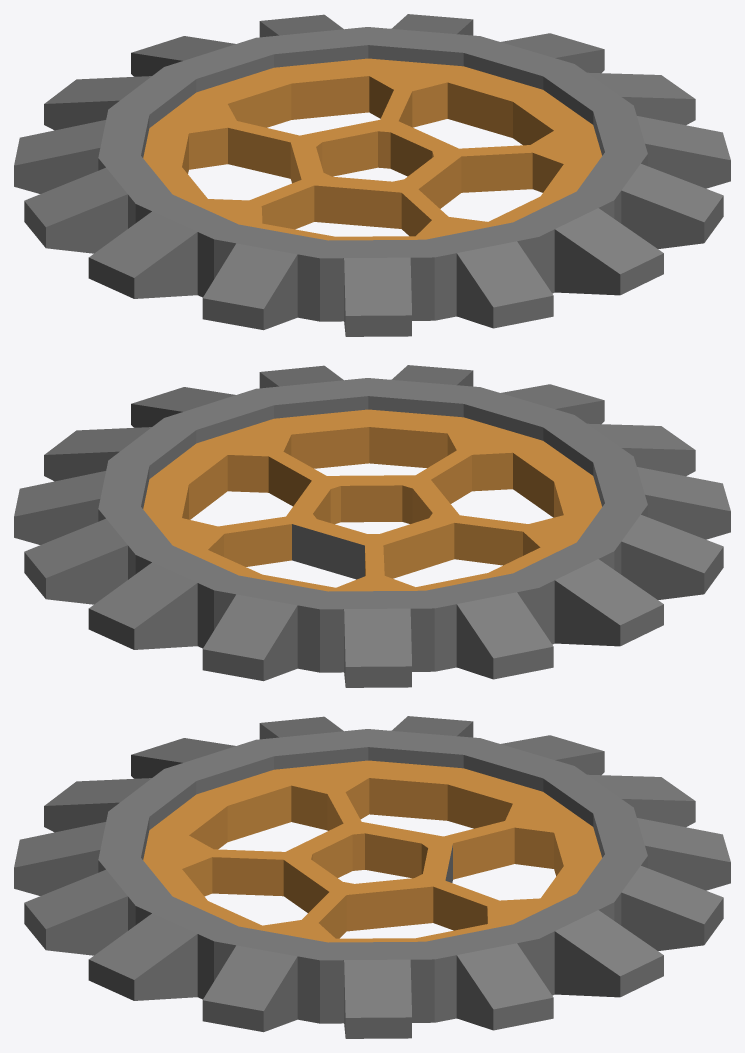
The model's file is Gear.fbx.
3 renders of one model, top to bottom at view 1: azimuth 30°, elevation 25°; view 2: azimuth 150°, elevation 25°; view 3: azimuth 270°, elevation 25°, orthographic.
Visible parts, largest first — view 1: Circle.001; view 2: Circle.001; view 3: Circle.001.
Part boxes in pixels (bbox=[...]): Circle.001: bbox=[14, 14, 730, 336]; Circle.001: bbox=[14, 365, 730, 687]; Circle.001: bbox=[14, 716, 730, 1038].
Bounding box in the file's own units: 342 × 33.43 × 343.
